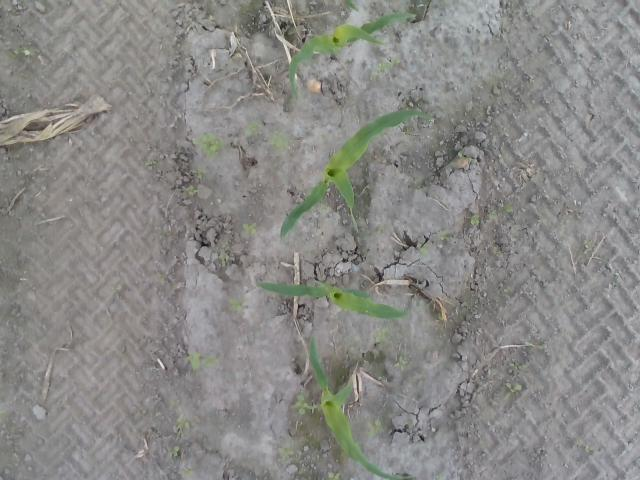Maize: (280, 108, 432, 238), (308, 334, 412, 480), (288, 11, 418, 98), (257, 283, 410, 320)
Weeds: (194, 132, 224, 154), (370, 59, 402, 79), (292, 392, 318, 416), (186, 352, 218, 369), (367, 418, 387, 436), (506, 360, 528, 376), (218, 241, 232, 266), (174, 416, 190, 436), (278, 444, 294, 462), (272, 133, 288, 150), (372, 327, 388, 344), (504, 382, 524, 395), (395, 356, 409, 373), (242, 222, 260, 234), (194, 167, 208, 182), (244, 123, 260, 136), (166, 445, 180, 458), (186, 185, 200, 196), (15, 46, 32, 55), (144, 159, 159, 168), (181, 466, 192, 478), (469, 214, 481, 224), (230, 300, 240, 310), (326, 472, 340, 479), (440, 231, 450, 240), (419, 246, 427, 255)
